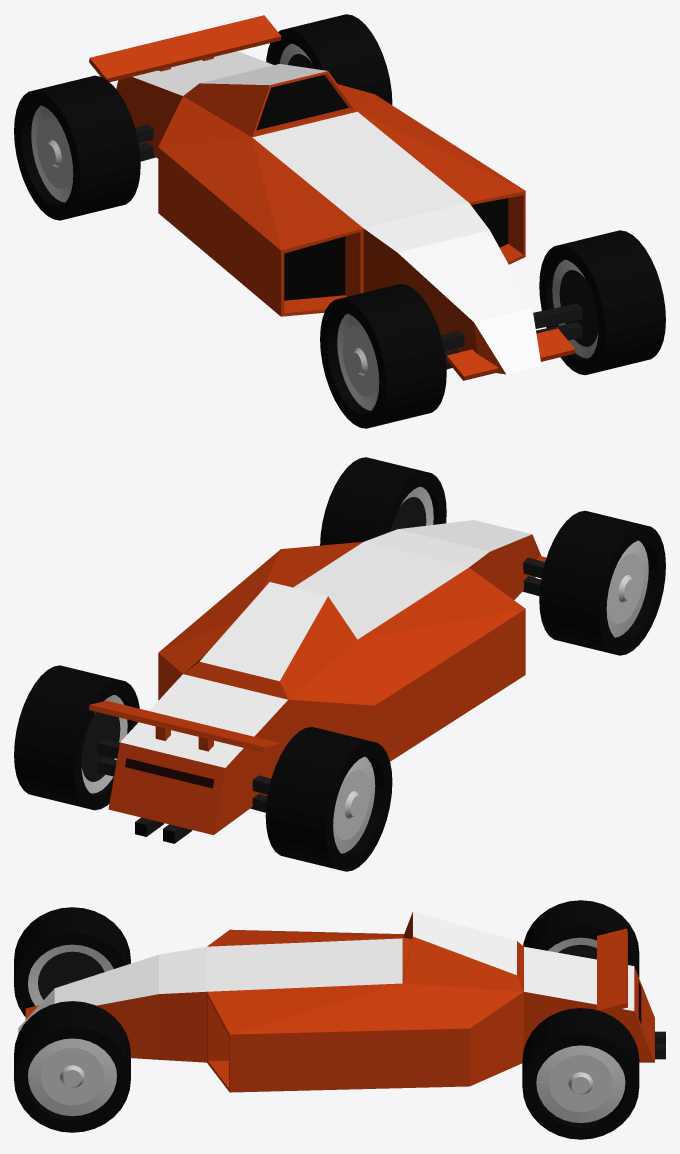
Rendered from car.obj.
3 views of the same model, one above another, from view 1: azimuth 30°, elevation 25°; view 2: azimuth 150°, elevation 25°; view 3: azimuth 270°, elevation 25° (orthographic). The views are drawn at different scales.
Visible parts, largest first — view 1: Body, WheelBR, WheelFR, WheelFL, WheelBL; view 2: Body, WheelFR, WheelBR, WheelBL, WheelFL; view 3: Body, WheelBL, WheelFL, WheelFR, WheelBR.
Part boxes in pixels (x1,y1,x2,y2): Body: [89, 15, 582, 380]; WheelBR: [14, 75, 140, 220]; WheelFR: [320, 284, 446, 428]; WheelFL: [539, 230, 665, 375]; WheelBL: [266, 14, 392, 104]; Body: [89, 520, 546, 843]; WheelFR: [539, 510, 665, 655]; WheelBR: [265, 727, 392, 871]; WheelBL: [14, 665, 139, 810]; WheelFL: [320, 457, 446, 545]; Body: [18, 911, 665, 1092]; WheelBL: [522, 1008, 639, 1139]; WheelFL: [14, 1001, 130, 1132]; WheelFR: [14, 907, 130, 1016]; WheelBR: [523, 900, 639, 977].
Size of the model in its own units: 1.79 by 0.9296 by 3.69.
